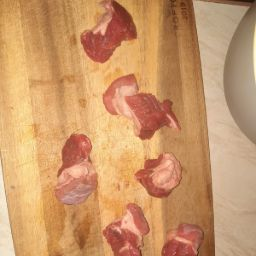Chicken Strips: (17, 3, 210, 256), (94, 67, 202, 144), (36, 122, 118, 216), (59, 2, 149, 63), (92, 187, 154, 256), (132, 142, 195, 201), (153, 203, 210, 256)
